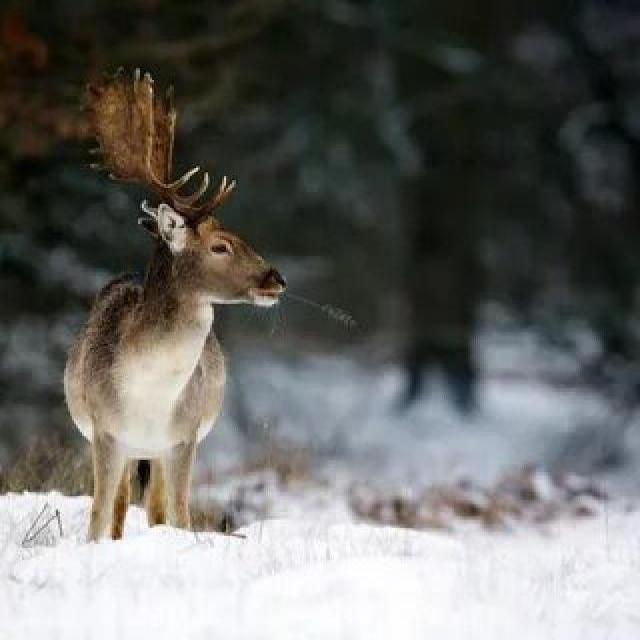deer: (39, 76, 378, 564)
